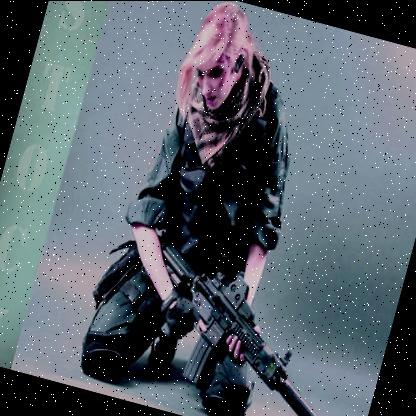rifle: (120, 232, 356, 416)
